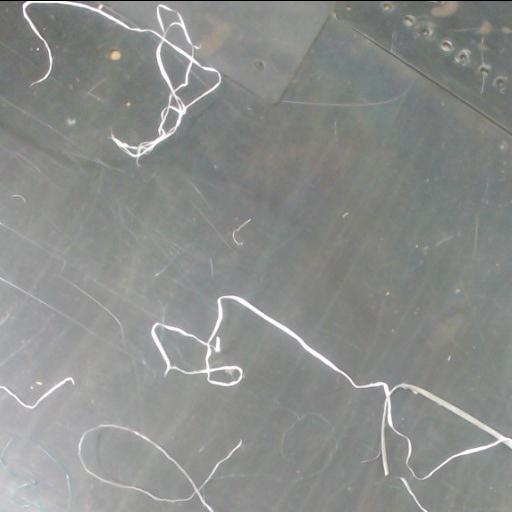conveyor belt: (0, 1, 511, 512)
thread: (152, 295, 511, 479), (23, 1, 221, 163), (78, 423, 242, 512), (0, 377, 74, 408)
